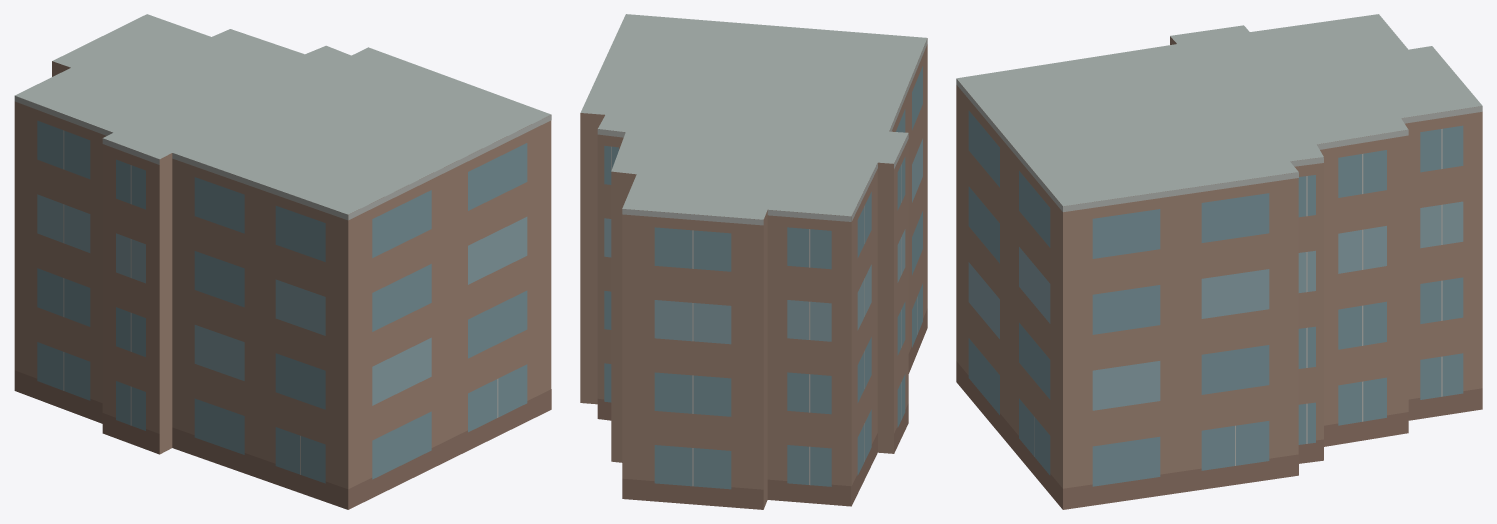
Rendered from survey-upis-32619404.glb.
3 renders of one model, left to right at view 1: azimuth 30°, elevation 25°; view 2: azimuth 150°, elevation 25°; view 3: azimuth 270°, elevation 25°, orthographic. The views are drawn at different scales.
Parts seen in each view (by area): view 1: survey-upis-32619404.tmp; view 2: survey-upis-32619404.tmp; view 3: survey-upis-32619404.tmp.
Part boxes in pixels (left/top/right/bottom): survey-upis-32619404.tmp: left=14, top=14, right=551, bottom=509; survey-upis-32619404.tmp: left=580, top=14, right=927, bottom=509; survey-upis-32619404.tmp: left=956, top=14, right=1482, bottom=509.
Bounding box in the file's own units: 16.99 × 12.5 × 19.65.
